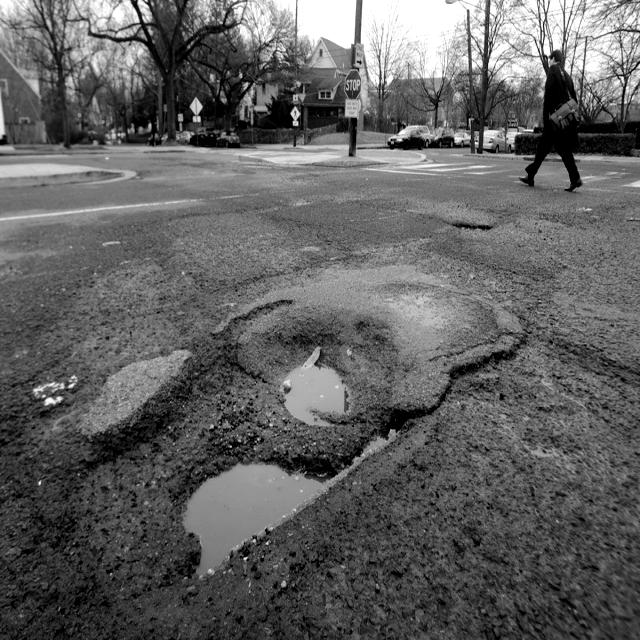pathole: (215, 267, 522, 423), (184, 464, 324, 571), (284, 365, 349, 425)
